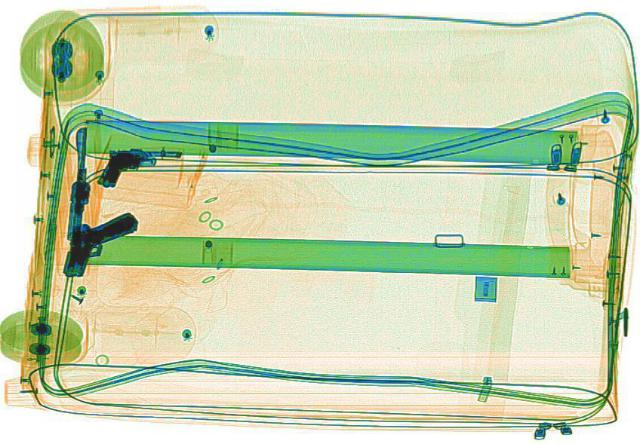Gun: (30, 203, 154, 279), (85, 136, 189, 194), (56, 121, 100, 237)
